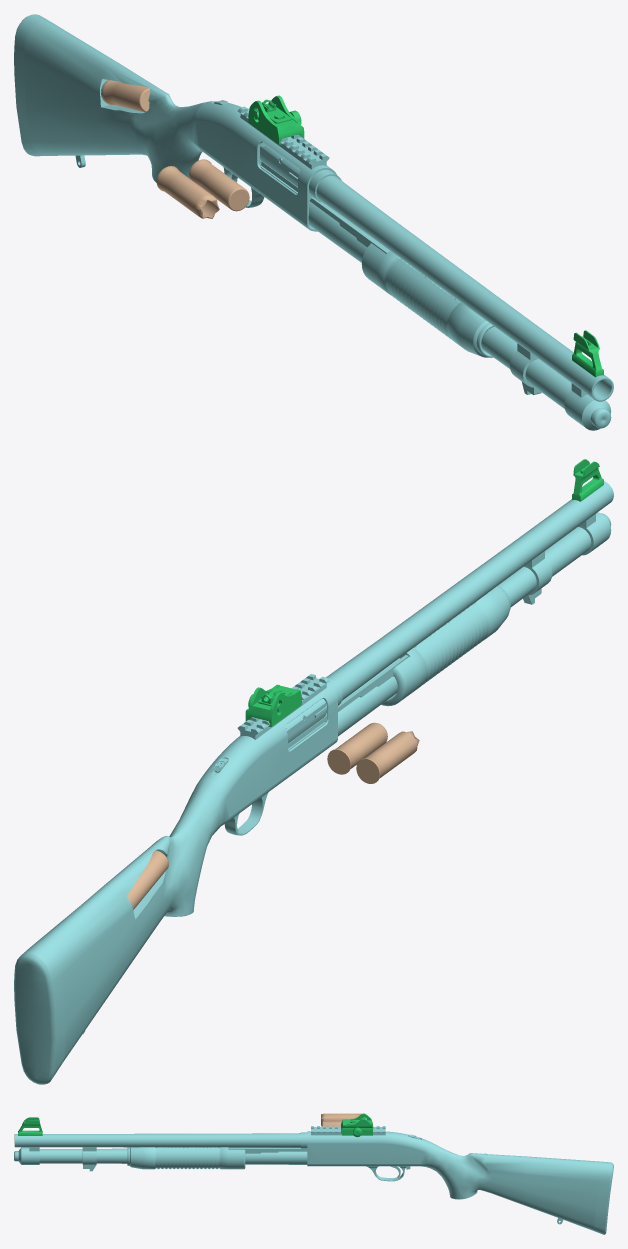
File: WPN_590A1.FBX
3 views of the same model, one above another, from view 1: azimuth 30°, elevation 25°; view 2: azimuth 150°, elevation 25°; view 3: azimuth 270°, elevation 25° (orthographic). The views are drawn at different scales.
Parts seen in each view (by area): view 1: WPN_590, WPN_590_forend, cal_12G (×2), WPN_590_sights, cal_12G_shell, WPN_590_bolt; view 2: WPN_590, WPN_590_forend, cal_12G (×2), WPN_590_sights, cal_12G_shell, WPN_590_bolt; view 3: WPN_590, WPN_590_forend, WPN_590_sights, cal_12G_shell.
Boxes of the visible parts, bbox=[...] form: WPN_590: bbox=[14, 14, 613, 430]; WPN_590_forend: bbox=[261, 161, 489, 357]; cal_12G (×2): bbox=[102, 80, 249, 211]; WPN_590_sights: bbox=[248, 95, 603, 377]; cal_12G_shell: bbox=[156, 166, 219, 218]; WPN_590_bolt: bbox=[260, 144, 299, 194]; WPN_590: bbox=[14, 481, 613, 1084]; WPN_590_forend: bbox=[288, 586, 509, 748]; cal_12G (×2): bbox=[127, 722, 387, 910]; WPN_590_sights: bbox=[245, 459, 603, 726]; cal_12G_shell: bbox=[356, 731, 419, 783]; WPN_590_bolt: bbox=[285, 699, 326, 750]; WPN_590: bbox=[14, 1126, 613, 1234]; WPN_590_forend: bbox=[130, 1147, 307, 1169]; WPN_590_sights: bbox=[18, 1113, 372, 1137]; cal_12G_shell: bbox=[321, 1113, 364, 1126].
Bounding box in the file's own units: 14.09 × 22.55 × 104.
